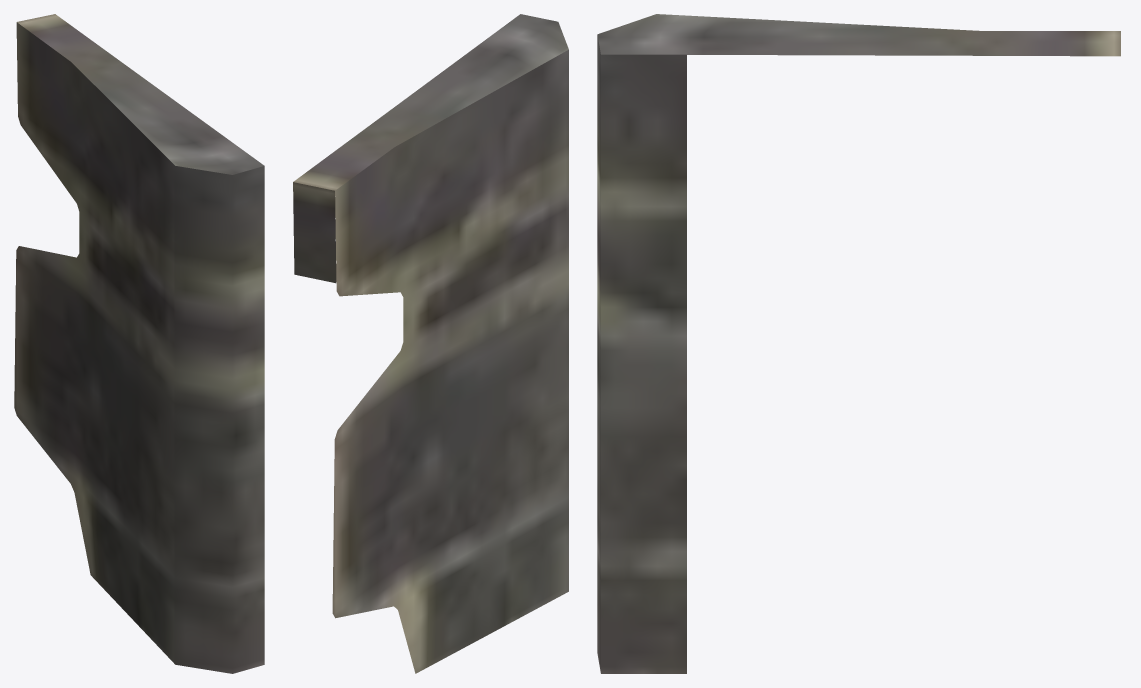
Rendered from wall.low.stone.corner.r.glb.
The picture shows the model from 3 angles, left to right: view 1: azimuth 30°, elevation 25°; view 2: azimuth 150°, elevation 25°; view 3: azimuth 270°, elevation 25°; orthographic projection. The views are drawn at different scales.
Parts seen in each view (by area): view 1: wall.third.corner.R_LOD0; view 2: wall.third.corner.R_LOD0; view 3: wall.third.corner.R_LOD0.
Boxes of the visible parts, bbox=[...] form: wall.third.corner.R_LOD0: bbox=[14, 14, 264, 673]; wall.third.corner.R_LOD0: bbox=[293, 14, 568, 673]; wall.third.corner.R_LOD0: bbox=[597, 14, 1120, 673].
Size of the model in its own units: 0.1422 by 1.01 by 0.7824.
Materials: 1 (1 with a texture image).
